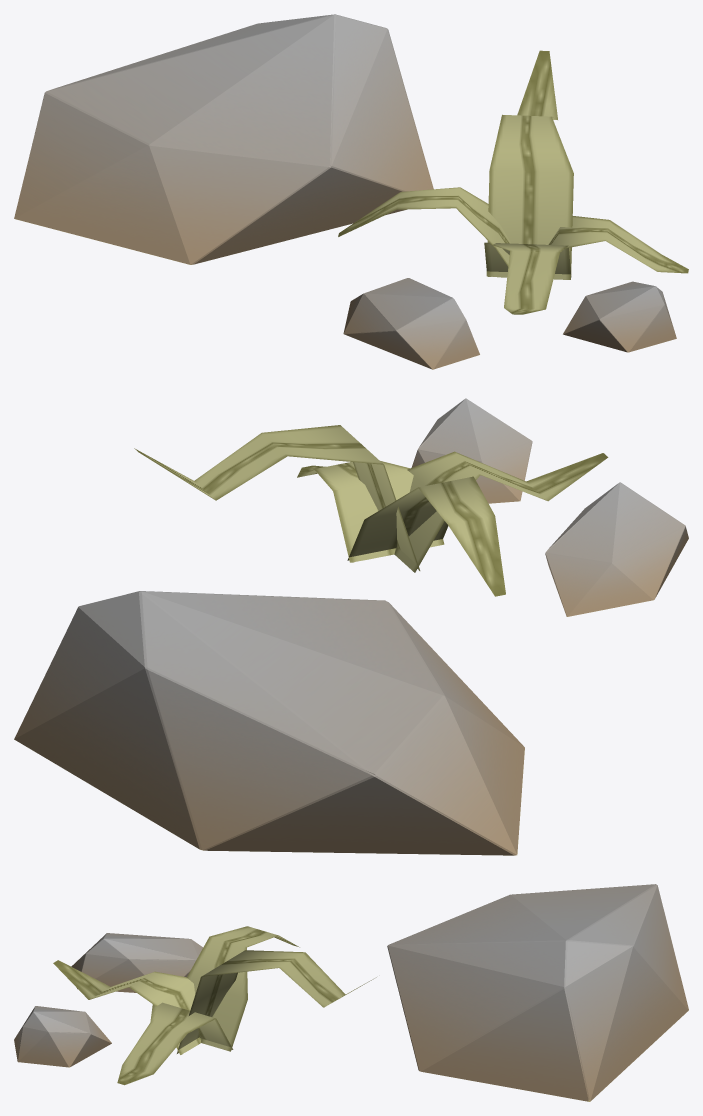
The model's file is Desert collection 3.fbx.
3 renders of one model, top to bottom at view 1: azimuth 30°, elevation 25°; view 2: azimuth 150°, elevation 25°; view 3: azimuth 270°, elevation 25°, orthographic. The views are drawn at different scales.
Visible parts, largest first — view 1: Desert dying plant collection 1; view 2: Desert dying plant collection 1; view 3: Desert dying plant collection 1.
Part boxes in pixels (<box>): Desert dying plant collection 1: <box>14,14,688,369</box>; Desert dying plant collection 1: <box>14,398,688,855</box>; Desert dying plant collection 1: <box>14,884,688,1101</box>.
Bounding box in the file's own units: 12.06 × 3.96 × 18.22.
